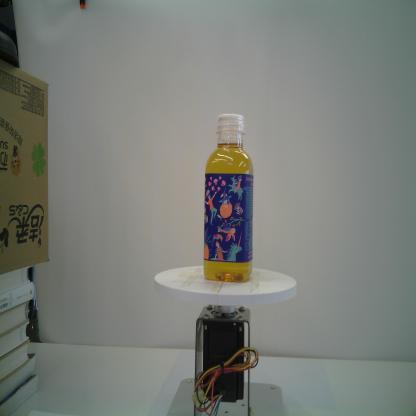Drink: (202, 112, 254, 285)
